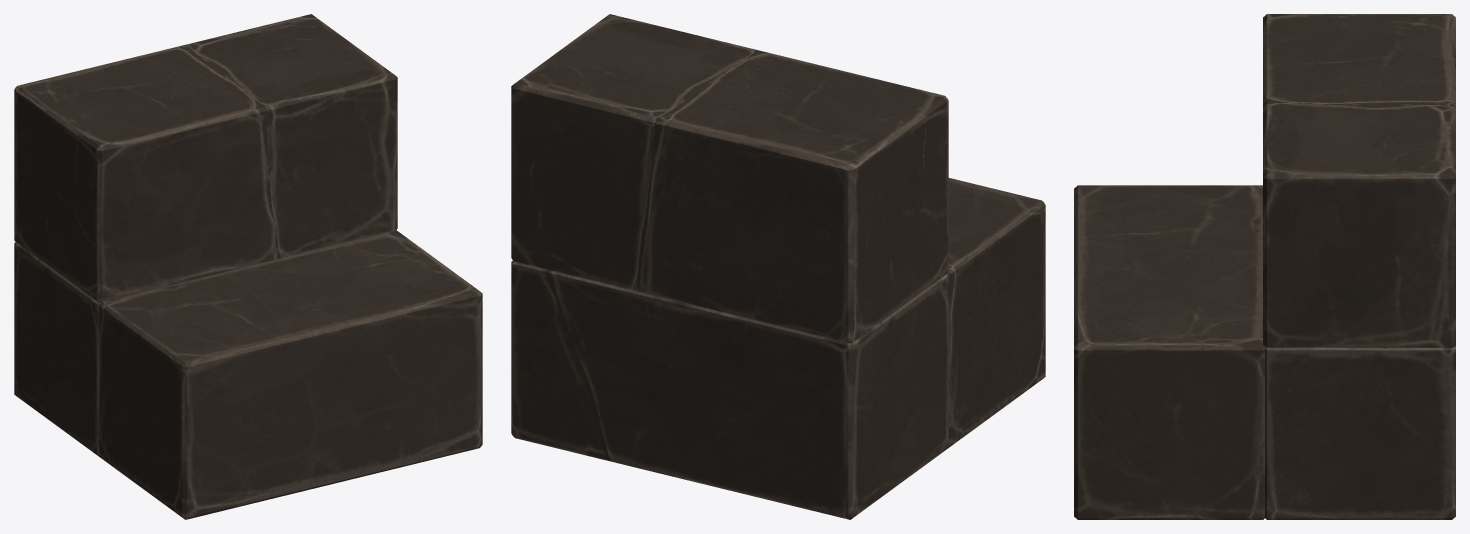
The model's file is Block_005.fbx.
The picture shows the model from 3 angles, left to right: view 1: azimuth 30°, elevation 25°; view 2: azimuth 150°, elevation 25°; view 3: azimuth 270°, elevation 25°; orthographic projection. The views are drawn at different scales.
Parts seen in each view (by area): view 1: cube_004; view 2: cube_004; view 3: cube_004.
Part boxes in pixels (x1=…): cube_004: x1=14, y1=14, x2=482, y2=519; cube_004: x1=511, y1=14, x2=1045, y2=519; cube_004: x1=1074, y1=14, x2=1455, y2=519.
Bounding box in the file's own units: 118 × 117 × 117.
